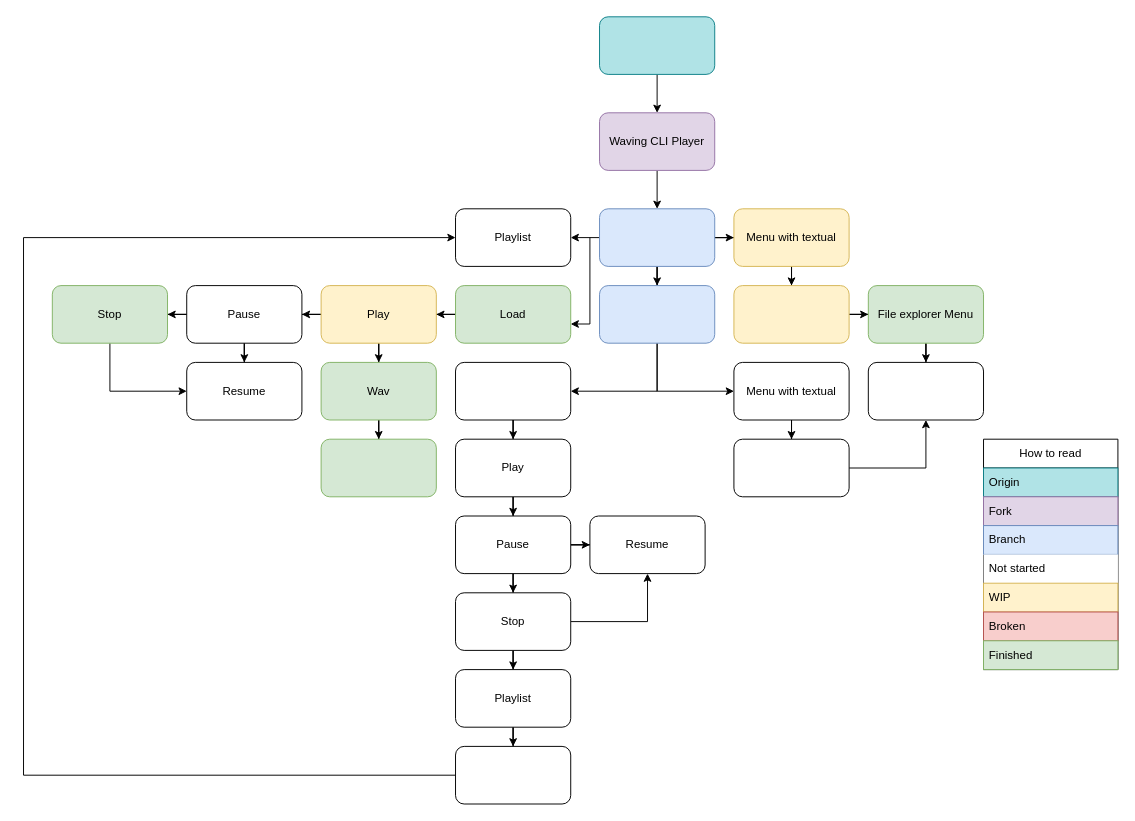
This 1135x821 diagram has some shape labels left out. Here are the shapes that lost their labels. From the top down, the centre of each, then its label:
At point (657, 45): "Waving".
At point (657, 237): "Main".
At point (657, 314): "Streaming".
At point (791, 314): "Main menu".
At point (513, 390): "Load from YT".
At point (925, 390): "Mix local with streaming menu".
At point (378, 467): "Compresed files (mp3, ogg)".
At point (791, 467): "Streaming explorer Menu".
At point (513, 774): "Mix local and streaming in playlist".
